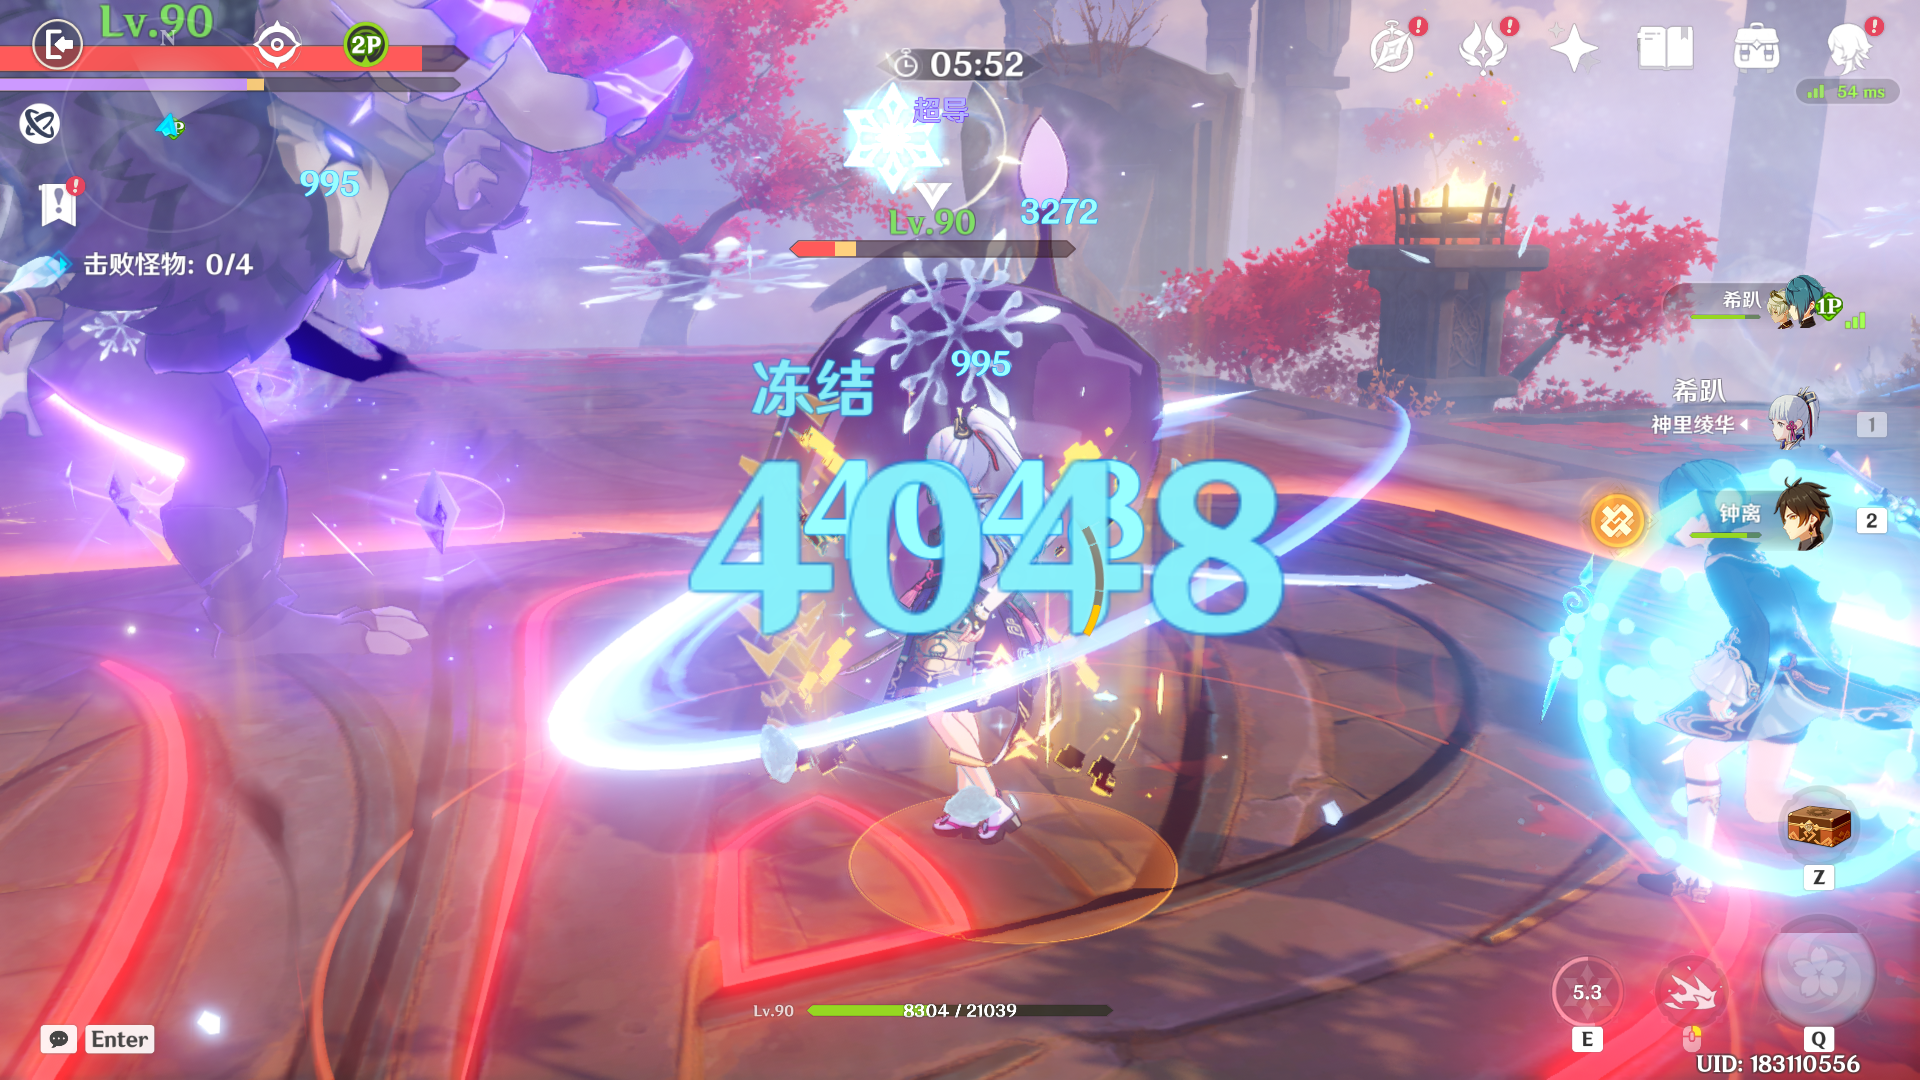bosshili: (1, 3, 698, 700)
character: (1604, 444, 1920, 964), (843, 400, 1127, 862)
